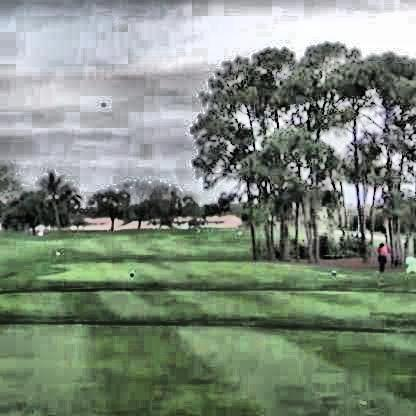golfball: (99, 99, 104, 105)
